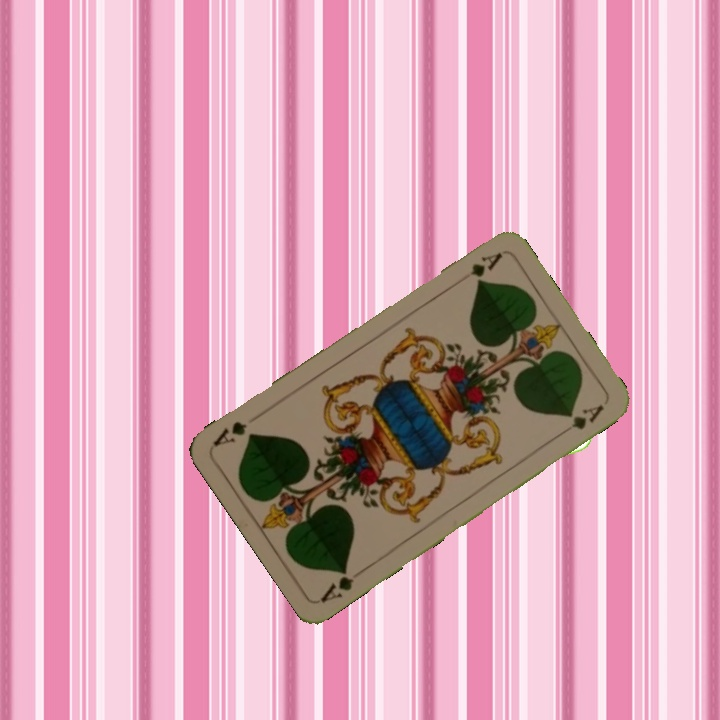GA: (317, 563, 368, 605), (466, 248, 505, 280)
